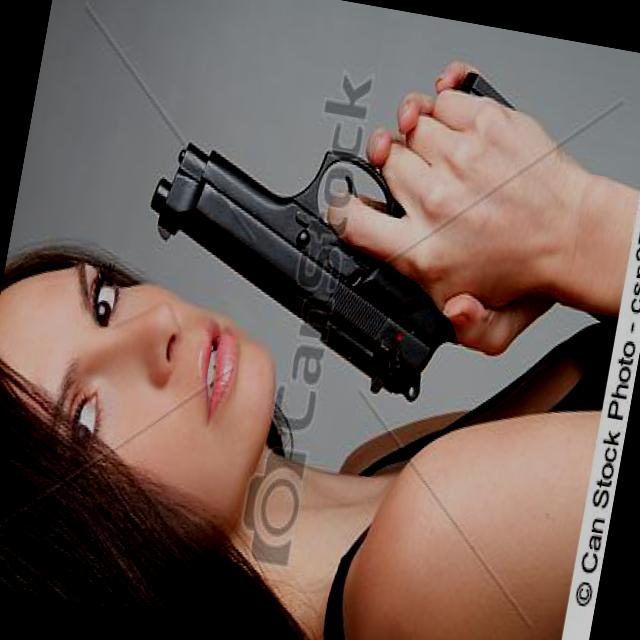handgun: (116, 19, 530, 412)
